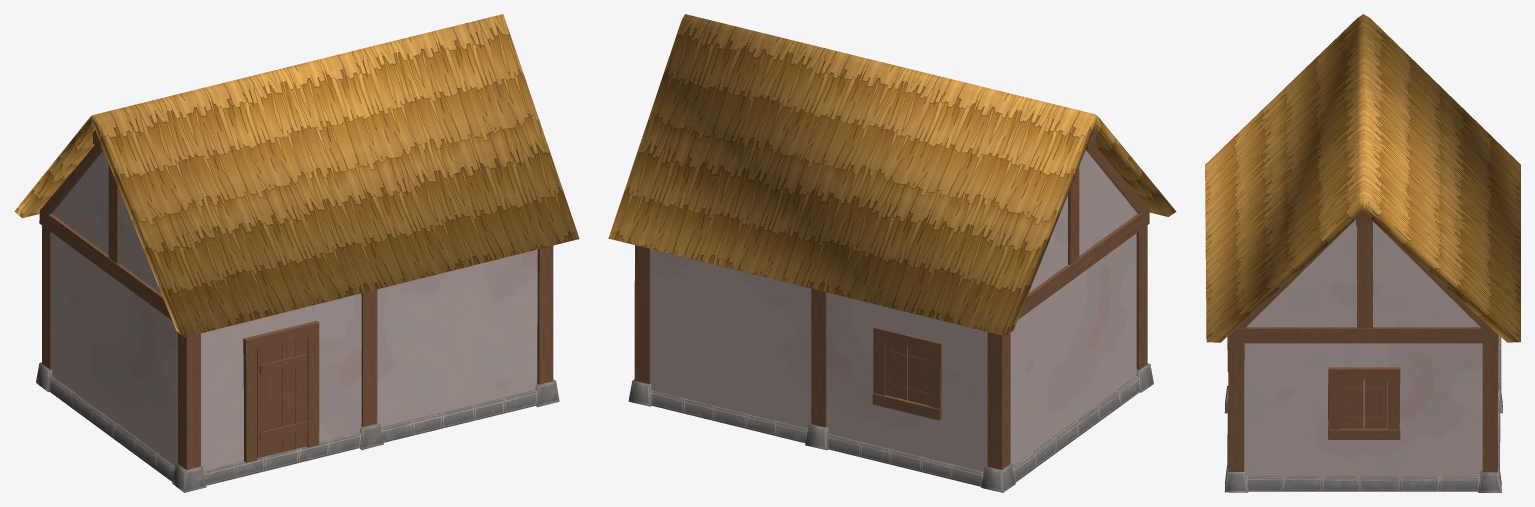
The model's file is SM_house.glb.
3 renders of one model, left to right at view 1: azimuth 30°, elevation 25°; view 2: azimuth 150°, elevation 25°; view 3: azimuth 270°, elevation 25°, orthographic. The views are drawn at different scales.
Parts seen in each view (by area): view 1: stylized_house; view 2: stylized_house; view 3: stylized_house.
Part boxes in pixels (x1,y1,x2,y2): stylized_house: (14, 14, 579, 492); stylized_house: (608, 14, 1176, 492); stylized_house: (1205, 14, 1520, 492).
Size of the model in its own units: 764 by 586 by 553.
1 material, 1 textured.
